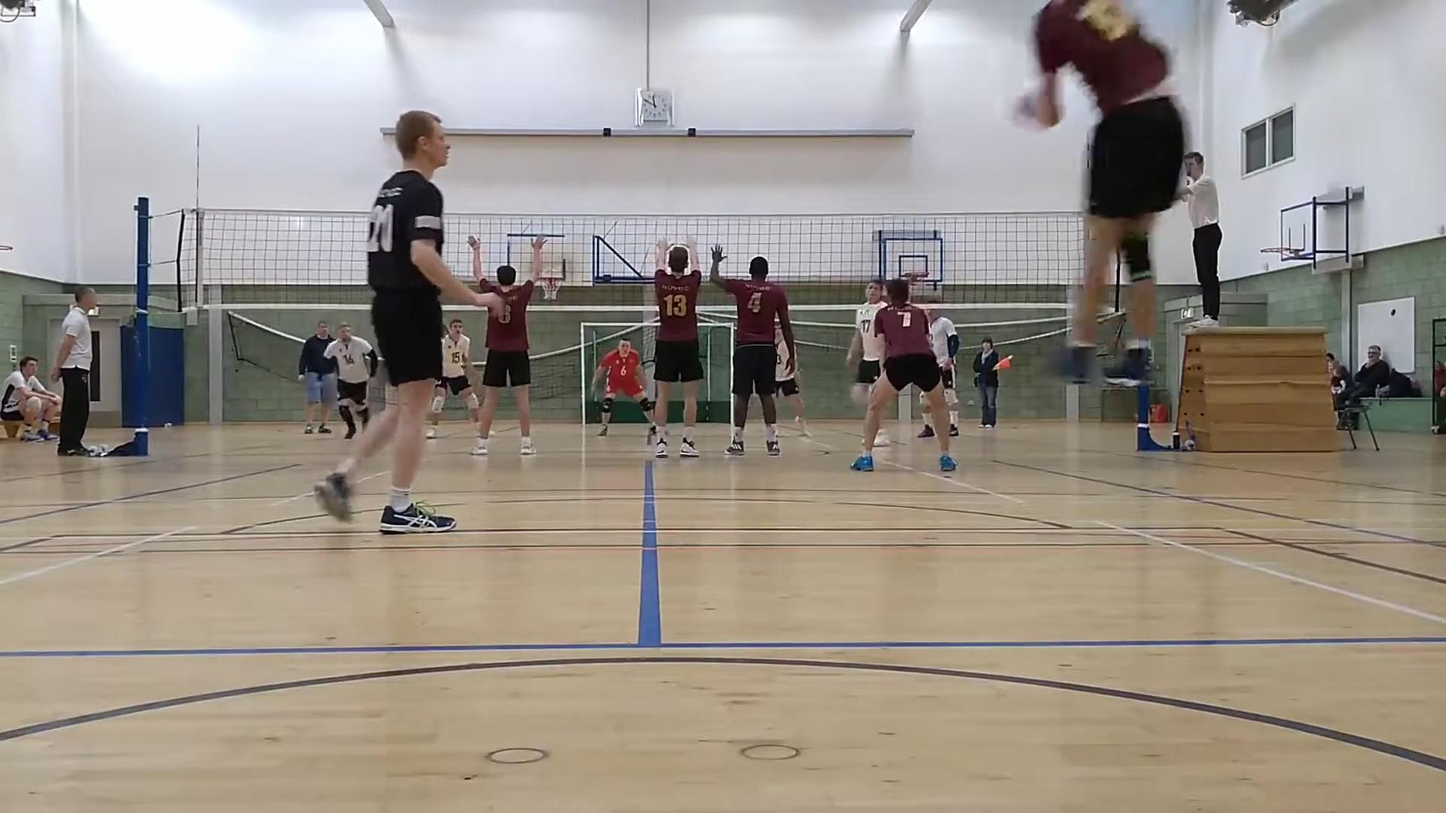battuta: (1016, 0, 1195, 399)
